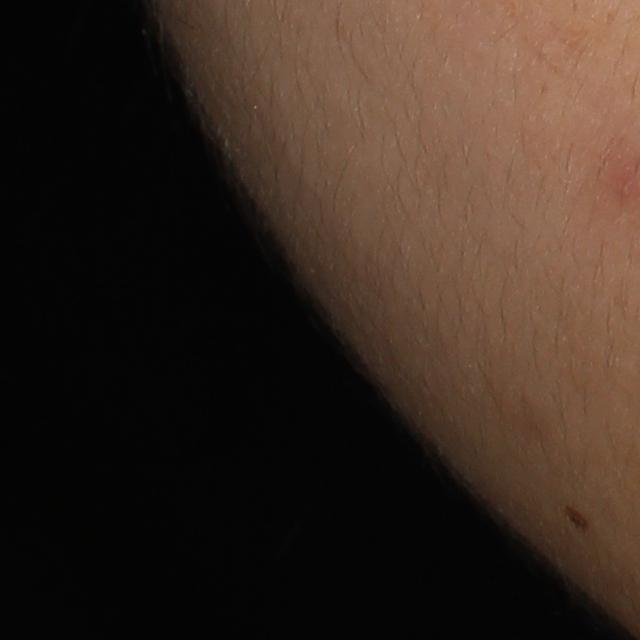nevus: (566, 500, 595, 531)
